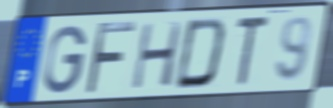9: (274, 14, 314, 84)
D: (172, 16, 229, 91)
F: (82, 20, 138, 97)
G: (42, 23, 89, 97)
H: (130, 20, 185, 92)
T: (233, 14, 272, 89)
